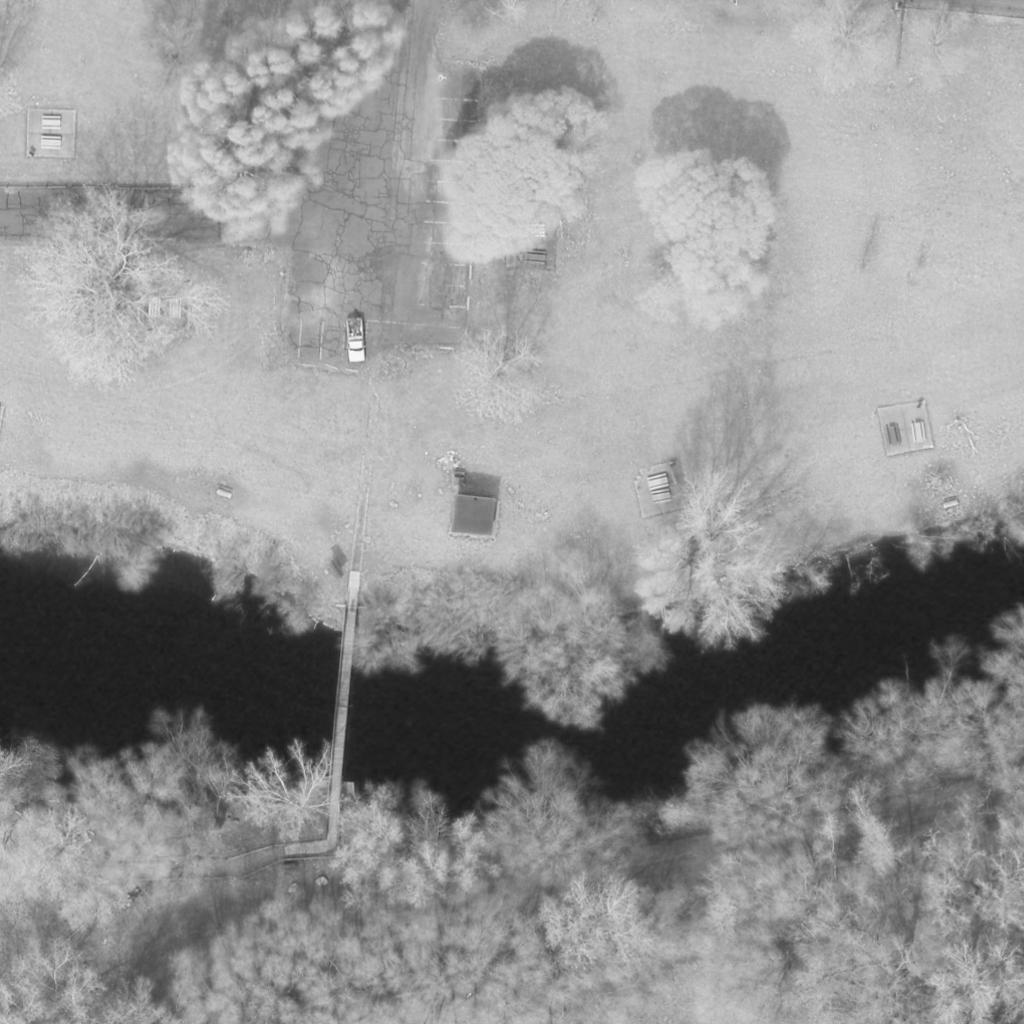vehicle: (344, 317, 368, 363)
